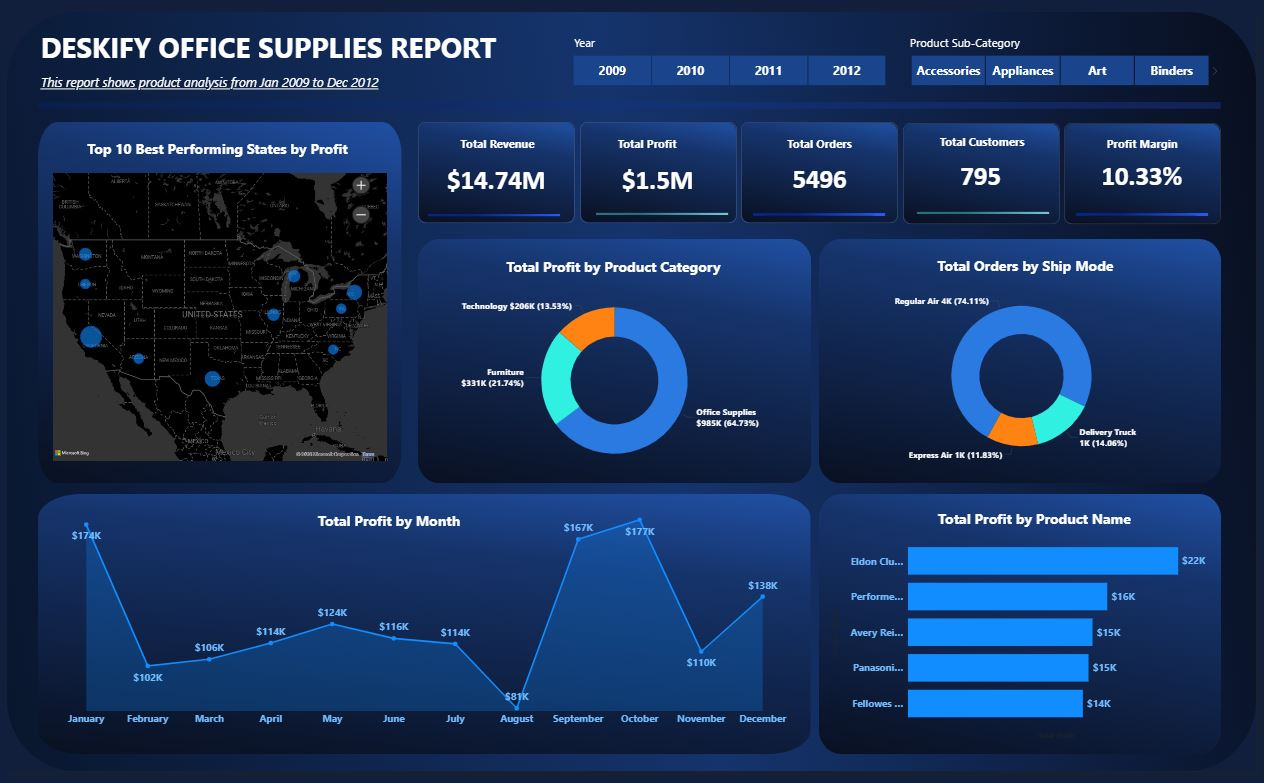

The page's visual inventory and layout, read from the dashboard file:
{"tool":"powerbi","page":{"name":"Product Analysis","canvas":[2500,1500],"ordinal":0},"visuals":[{"type":"image","box":[89.3,26.6,2372.7,1441.9],"z":0},{"type":"image","box":[869.5,235.1,298.3,191.9],"z":1000},{"type":"image","box":[1177.3,235.1,298.3,191.9],"z":2000},{"type":"image","box":[1483.1,235.1,298.3,191.9],"z":3000},{"type":"image","box":[1791.4,237.5,298.3,191.9],"z":4000},{"type":"image","box":[2097.2,237.5,298.3,191.9],"z":5000},{"type":"image","box":[148.2,235.6,691.5,685.8],"z":6000},{"type":"image","box":[870.1,457.8,746.6,463.5],"z":7000},{"type":"image","box":[148.2,942.2,1468.5,493.9],"z":8000},{"type":"image","box":[1631.8,457.8,763.7,463.5],"z":9000},{"type":"image","box":[1631.8,942.2,763.7,493.9],"z":10000},{"type":"textbox","box":[913.8,256.5,214.7,47.5],"z":11000},{"type":"textbox","box":[1244.3,256.5,300.2,47.5],"z":12000},{"type":"textbox","box":[1523.6,256.5,218.5,100.7],"z":13000},{"type":"textbox","box":[1856,252.7,191.9,55.1],"z":14000},{"type":"textbox","box":[2173.3,256.5,321,100.7],"z":15000},{"type":"textbox","box":[148.2,51.3,949.8,87.4],"z":16000},{"type":"textbox","box":[148.2,138.7,949.8,117.8],"z":17000},{"type":"card","fields":{"Values":["Calculated Measures.Total Revenue"]},"box":[908.1,292.6,220.4,98.8],"z":18000},{"type":"card","fields":{"Values":["Calculated Measures.Total Profit"]},"box":[1215.8,302.1,218.5,77.9],"z":19000},{"type":"card","fields":{"Values":["Calculated Measures.Total Orders"]},"box":[1523.6,281.2,218.5,115.9],"z":20000},{"type":"card","fields":{"Values":["Calculated Measures.Total Customers"]},"box":[1829.4,292.6,218.5,81.7],"z":21000},{"type":"card","fields":{"Values":["Calculated Measures.Profit Margin"]},"box":[2135.3,235.6,218.5,197.6],"z":22000},{"type":"map","fields":{"Category":["LocationDim.State"],"Size":["Calculated Measures.Total Profit"]},"box":[171,326.7,645.9,556.6],"z":23000},{"type":"donutChart","fields":{"Category":["ProductDim.Product Category"],"Y":["Calculated Measures.Total Profit"]},"box":[908.1,539.5,670.6,374.2],"z":24000},{"type":"donutChart","fields":{"Category":["OrderDim.Ship Mode"],"Y":["Calculated Measures.Total Orders"]},"box":[1679.3,539.5,674.4,357.1],"z":25000},{"type":"areaChart","fields":{"Y":["Calculated Measures.Total Profit"],"Category":["CalendarDim.MonthName"]},"box":[188.1,965,1390.6,427.4],"z":26000},{"type":"clusteredBarChart","fields":{"Y":["Calculated Measures.Total Profit"],"Category":["ProductDim.Product Name"]},"box":[1650.8,1003,720,410.3],"z":27000},{"type":"textbox","box":[1023.9,486.3,435,64.6],"z":28000},{"type":"textbox","box":[1829.4,484.4,389.4,47.5],"z":29000},{"type":"textbox","box":[224.2,262.2,530,134.9],"z":30000},{"type":"textbox","box":[541.4,968.8,547.1,102.6],"z":31000},{"type":"textbox","box":[1774.3,965,533.8,205.2],"z":32000},{"type":"slicer","fields":{"Values":["CalendarDim.Year"]},"box":[1139.8,102.6,642.1,70.3],"z":33000},{"type":"textbox","box":[1063.8,64.6,245.1,38],"z":34000},{"type":"textbox","box":[1757.2,64.6,304,38],"z":35000},{"type":"slicer","fields":{"Values":["ProductDim.Product Sub-Category"]},"box":[1781.9,102.6,613.6,70.3],"z":36000},{"type":"image","box":[889.1,406.5,250.8,12],"z":37000},{"type":"image","box":[1208.2,376.1,250.8,68.4],"z":38000},{"type":"image","box":[1506.5,404.6,250.8,13.3],"z":39000},{"type":"image","box":[1818,374.2,250.8,68.4],"z":40000},{"type":"image","box":[2120.1,404.6,250.8,13.3],"z":41000},{"type":"image","box":[148.2,197.6,2247.3,13.3],"z":42000}]}

Visuals, with their boxes on the page's 2500x1500 design canvas (x1, y1, x2, y2). These are canvas units, not pixel positions in the 1264x783 screenshot, which may show the page scaled, cropped or inside an application window:
image: (89,27,2462,1468)
image: (870,235,1168,427)
image: (1177,235,1476,427)
image: (1483,235,1781,427)
image: (1791,238,2090,429)
image: (2097,238,2396,429)
image: (148,236,840,921)
image: (870,458,1617,921)
image: (148,942,1617,1436)
image: (1632,458,2396,921)
image: (1632,942,2396,1436)
textbox: (914,256,1128,304)
textbox: (1244,256,1544,304)
textbox: (1524,256,1742,357)
textbox: (1856,253,2048,308)
textbox: (2173,256,2494,357)
textbox: (148,51,1098,139)
textbox: (148,139,1098,256)
card - Calculated Measures.Total Revenue: (908,293,1128,391)
card - Calculated Measures.Total Profit: (1216,302,1434,380)
card - Calculated Measures.Total Orders: (1524,281,1742,397)
card - Calculated Measures.Total Customers: (1829,293,2048,374)
card - Calculated Measures.Profit Margin: (2135,236,2354,433)
map - LocationDim.State x Calculated Measures.Total Profit: (171,327,817,883)
donutChart - ProductDim.Product Category x Calculated Measures.Total Profit: (908,540,1579,914)
donutChart - OrderDim.Ship Mode x Calculated Measures.Total Orders: (1679,540,2354,897)
areaChart - Calculated Measures.Total Profit x CalendarDim.MonthName: (188,965,1579,1392)
clusteredBarChart - Calculated Measures.Total Profit x ProductDim.Product Name: (1651,1003,2371,1413)
textbox: (1024,486,1459,551)
textbox: (1829,484,2219,532)
textbox: (224,262,754,397)
textbox: (541,969,1088,1071)
textbox: (1774,965,2308,1170)
slicer - CalendarDim.Year: (1140,103,1782,173)
textbox: (1064,65,1309,103)
textbox: (1757,65,2061,103)
slicer - ProductDim.Product Sub-Category: (1782,103,2396,173)
image: (889,406,1140,418)
image: (1208,376,1459,444)
image: (1506,405,1757,418)
image: (1818,374,2069,443)
image: (2120,405,2371,418)
image: (148,198,2396,211)
